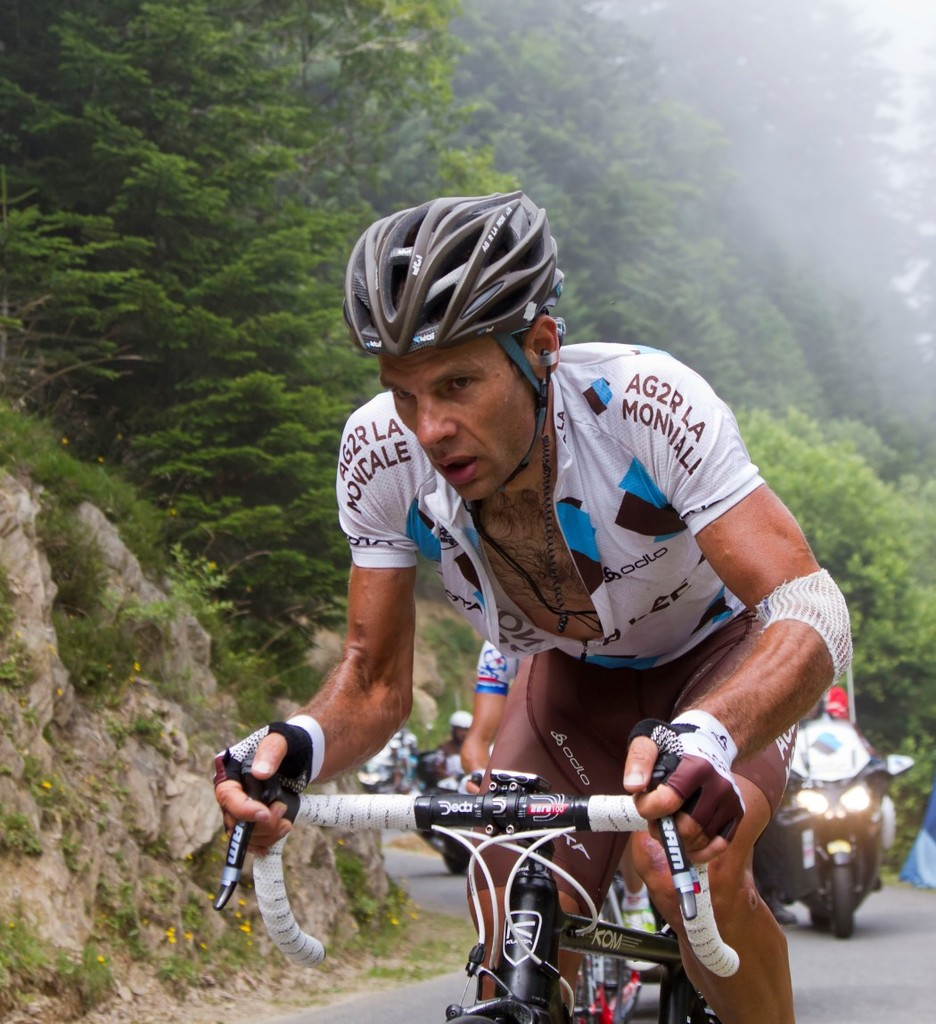Bike_toward: (188, 751, 821, 1024), (784, 731, 912, 931)
